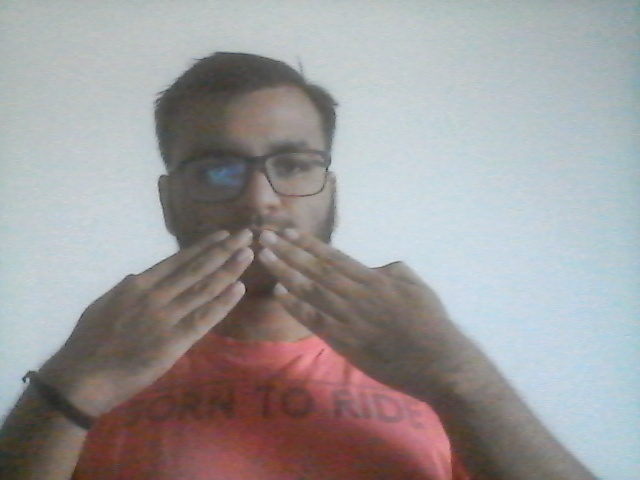Yes: (39, 224, 506, 409)
